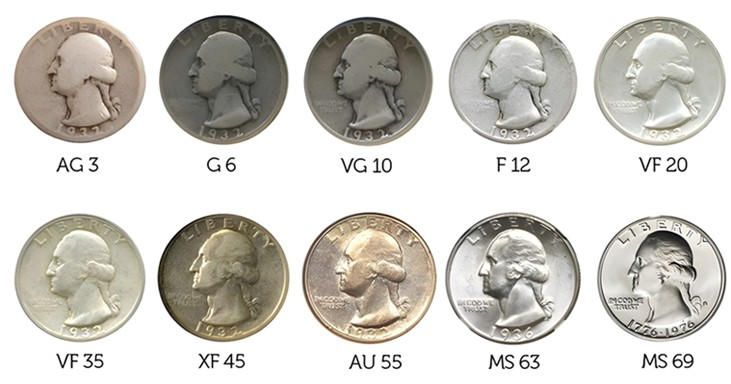coin: (304, 212, 438, 347), (155, 213, 293, 344), (444, 214, 581, 345), (303, 15, 435, 149), (11, 16, 148, 145), (159, 15, 290, 145), (594, 16, 725, 146), (13, 214, 145, 342), (448, 23, 580, 147), (597, 216, 725, 340)
